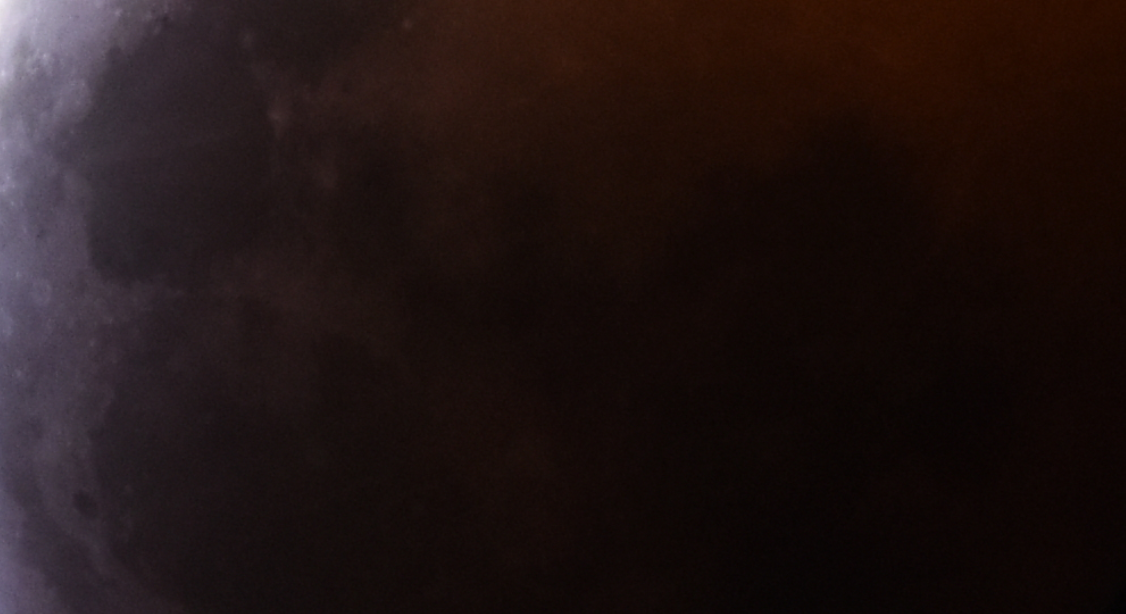crater: (307, 152, 363, 199), (67, 471, 101, 539), (19, 265, 61, 308), (385, 10, 426, 44), (81, 335, 102, 358), (63, 89, 84, 112)
